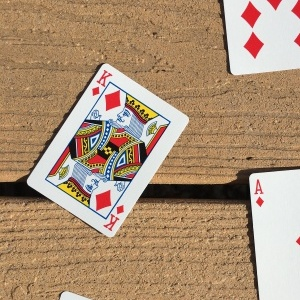card: (26, 62, 190, 238)
